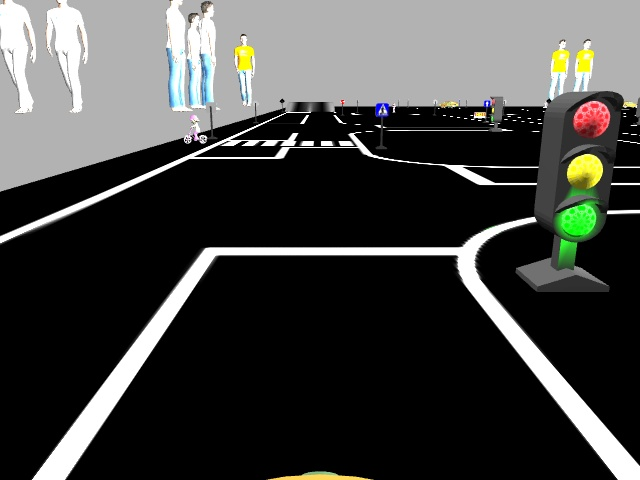Crosswalk: (375, 102, 388, 116)
Pedestrian: (182, 113, 206, 145)
TrafficLight: (536, 87, 616, 246)
